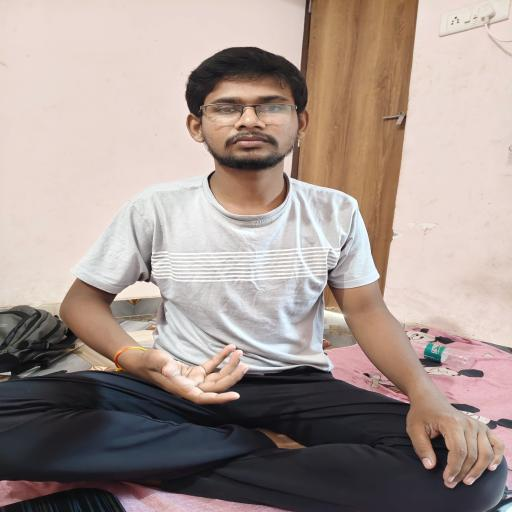Help: (121, 315, 293, 427)
